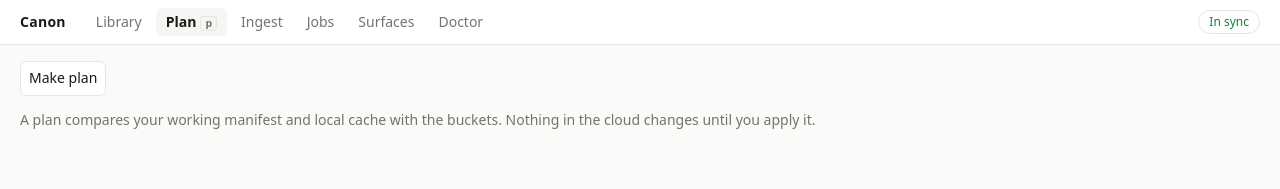
Test: Plan review › says when there is nothing to do
Step 1. Click the button "Make plan" → x=63, y=78, box [20,61,106,96]
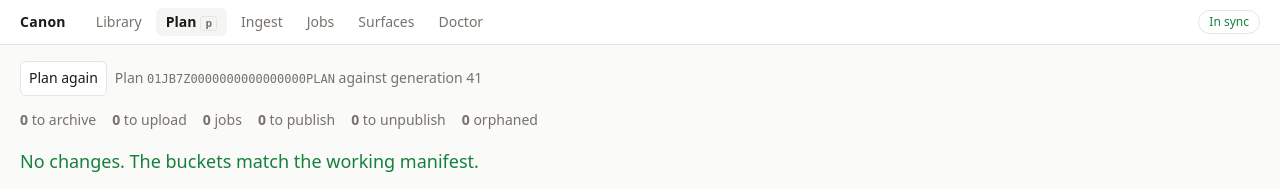
Check: the text "No changes. The buckets match the working manifest." is shown, box [20,149,479,173]
